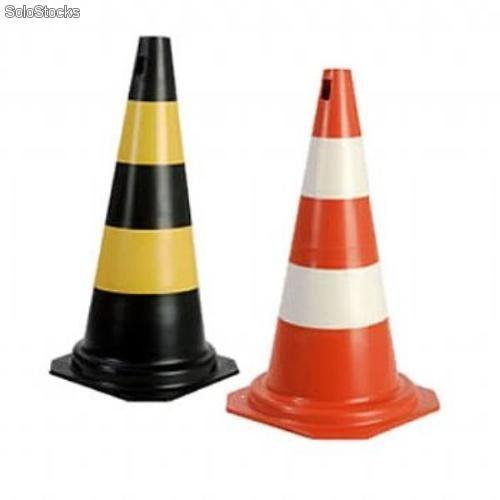traffic_cone: (225, 67, 441, 440), (48, 34, 240, 403)
